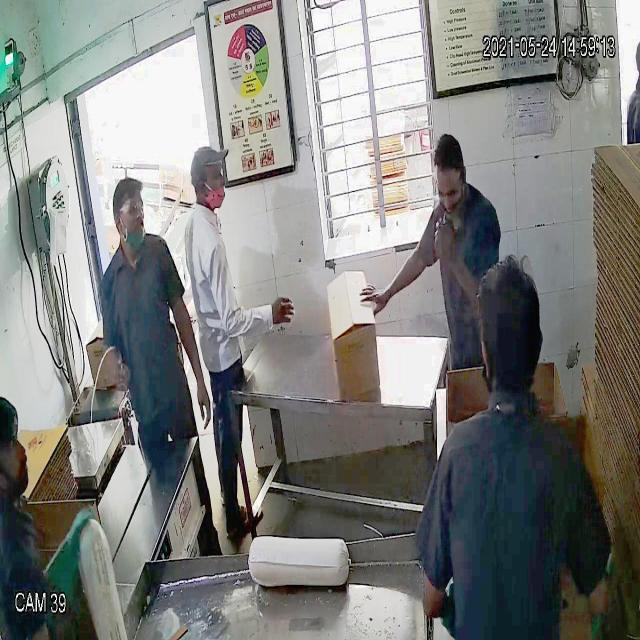glasses: (431, 175, 466, 209), (110, 198, 144, 226)
